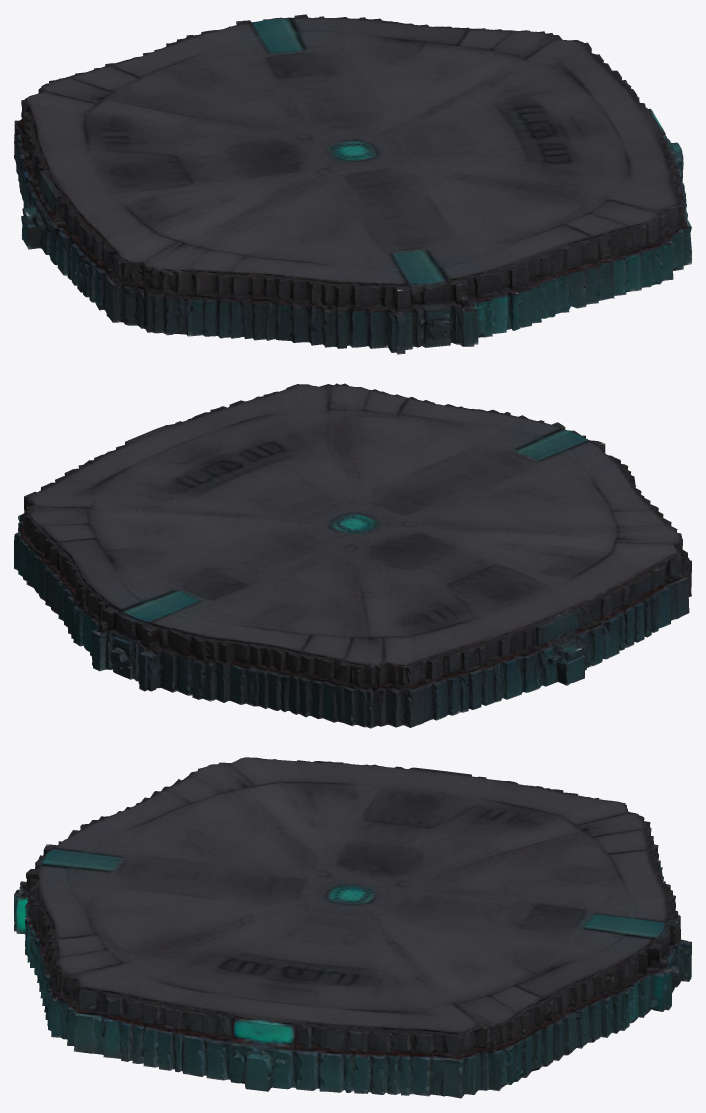
The model's file is CK1_RoofPanel.glb.
The picture shows the model from 3 angles, top to bottom: view 1: azimuth 30°, elevation 25°; view 2: azimuth 150°, elevation 25°; view 3: azimuth 270°, elevation 25°; orthographic projection. The views are drawn at different scales.
Parts seen in each view (by area): view 1: CK1_RoofPanel; view 2: CK1_RoofPanel; view 3: CK1_RoofPanel.
Boxes of the visible parts, x1,y1,x2,y2 form: CK1_RoofPanel: (14, 14, 691, 354); CK1_RoofPanel: (14, 383, 691, 728); CK1_RoofPanel: (14, 757, 691, 1098).
Bounding box in the file's own units: 6 × 0.6 × 6.
1 material, 1 textured.
